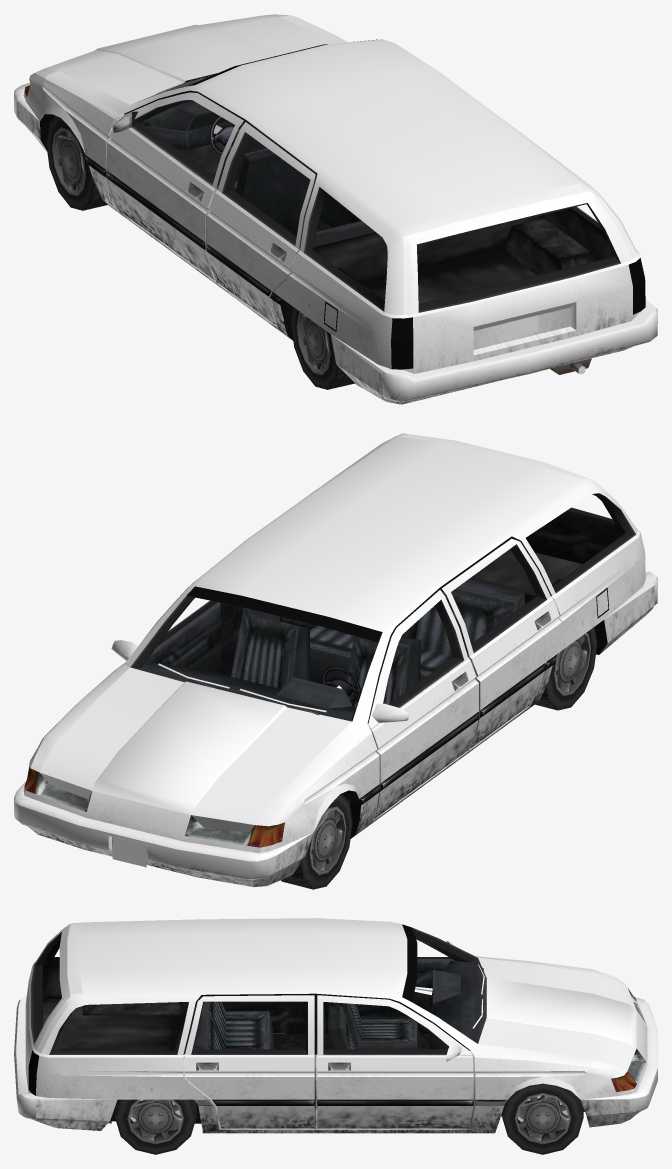
File: car.glb
The picture shows the model from 3 angles, top to bottom: view 1: azimuth 30°, elevation 25°; view 2: azimuth 150°, elevation 25°; view 3: azimuth 270°, elevation 25°; orthographic projection. The views are drawn at different scales.
Parts seen in each view (by area): view 1: chassis.001, boot_ok.001, door_lf_ok.001, bonnet_ok.001, door_lr_ok.001, bump_rear_ok.001, wheel.003, wheel.002; view 2: chassis.001, bonnet_ok.001, door_lf_ok.001, door_lr_ok.001, bump_front_ok.001, door_rf_ok.001, boot_ok.001, wheel.003, wheel.002, windscreen_ok.001; view 3: chassis.001, door_rf_ok.001, bonnet_ok.001, door_rr_ok.001, wheel.005, wheel.001, boot_ok.001, door_lf_ok.001, door_lr_ok.001, bump_front_ok.001, bump_rear_ok.001, windscreen_ok.001.
Part boxes in pixels (x1,y1,x2,y2): chassis.001: (16, 14, 653, 404); boot_ok.001: (409, 192, 632, 373); door_lf_ok.001: (106, 92, 243, 280); bonnet_ok.001: (44, 15, 336, 104); door_lr_ok.001: (206, 122, 316, 324); bump_rear_ok.001: (382, 305, 657, 401); wheel.003: (46, 115, 107, 210); wheel.002: (291, 307, 354, 389); chassis.001: (18, 433, 654, 887); bonnet_ok.001: (39, 667, 351, 824); door_lf_ok.001: (368, 590, 479, 818); door_lr_ok.001: (442, 538, 561, 748); bump_front_ok.001: (14, 790, 276, 880); door_rf_ok.001: (111, 580, 221, 674); boot_ok.001: (503, 507, 615, 563); wheel.003: (281, 793, 352, 889); wheel.002: (535, 627, 597, 710); windscreen_ok.001: (187, 586, 382, 642); chassis.001: (28, 918, 647, 1133); door_rf_ok.001: (317, 995, 473, 1128); bonnet_ok.001: (478, 957, 636, 1070); door_rr_ok.001: (185, 995, 314, 1128); wheel.005: (502, 1083, 583, 1154); wheel.001: (115, 1099, 196, 1154); boot_ok.001: (25, 926, 69, 1092); door_lf_ok.001: (325, 938, 455, 1033); door_lr_ok.001: (222, 1001, 305, 1033); bump_front_ok.001: (629, 997, 657, 1116); bump_rear_ok.001: (14, 995, 35, 1119); windscreen_ok.001: (402, 924, 417, 1001).
Size of the model in its own units: 3.57 by 2.24 by 8.45.
21 materials, 18 textured.
